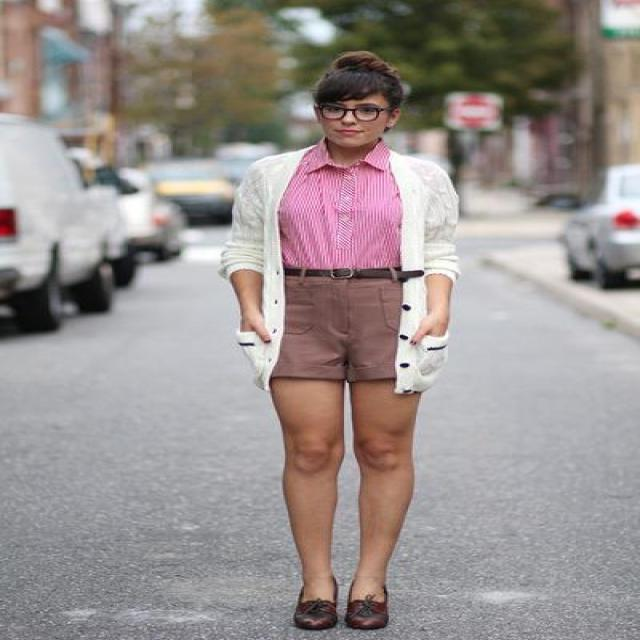jacket: (211, 146, 467, 393)
shirt: (276, 145, 402, 270)
shoe: (293, 586, 387, 630)
shorts: (269, 269, 421, 398)
